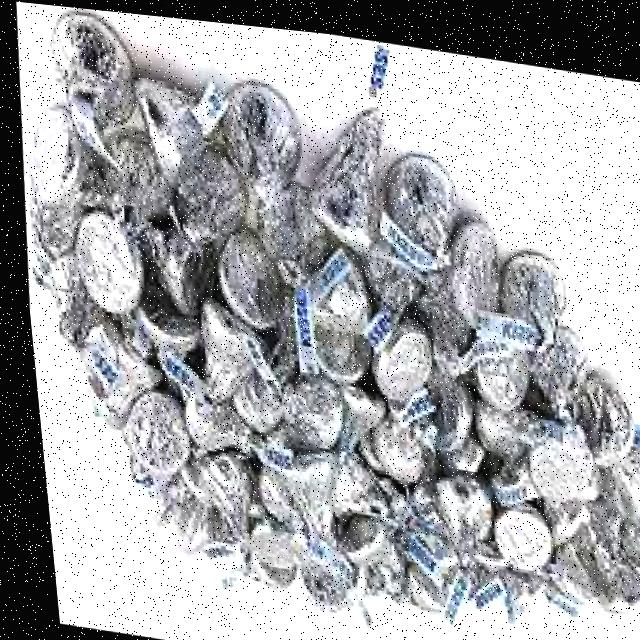kisses: (41, 3, 155, 167), (291, 95, 395, 257), (209, 67, 307, 214), (121, 64, 227, 189), (371, 137, 466, 268), (178, 292, 271, 413), (59, 199, 148, 320), (179, 434, 262, 563), (256, 431, 343, 549), (489, 233, 571, 357), (433, 208, 510, 339), (208, 223, 288, 335), (457, 301, 532, 409), (110, 376, 186, 479), (360, 305, 437, 405), (74, 319, 151, 419), (558, 354, 634, 454), (472, 480, 550, 576), (575, 415, 640, 526), (328, 500, 407, 583), (515, 416, 585, 499), (298, 311, 369, 385)
